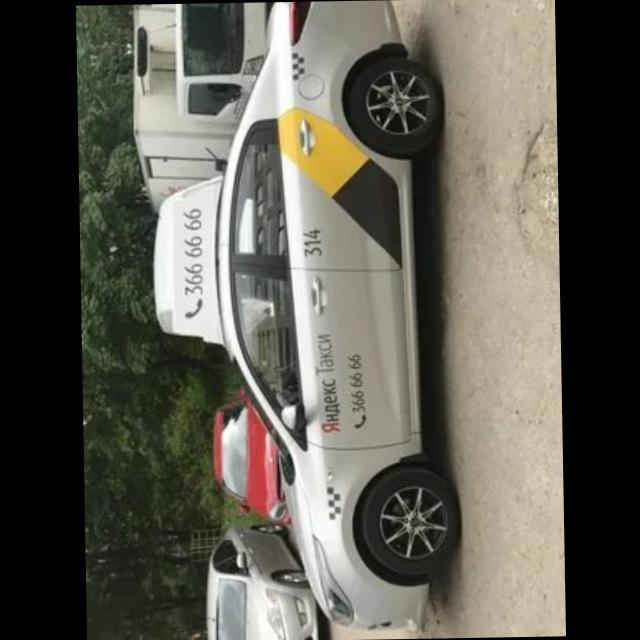taxi: (146, 1, 460, 637)
